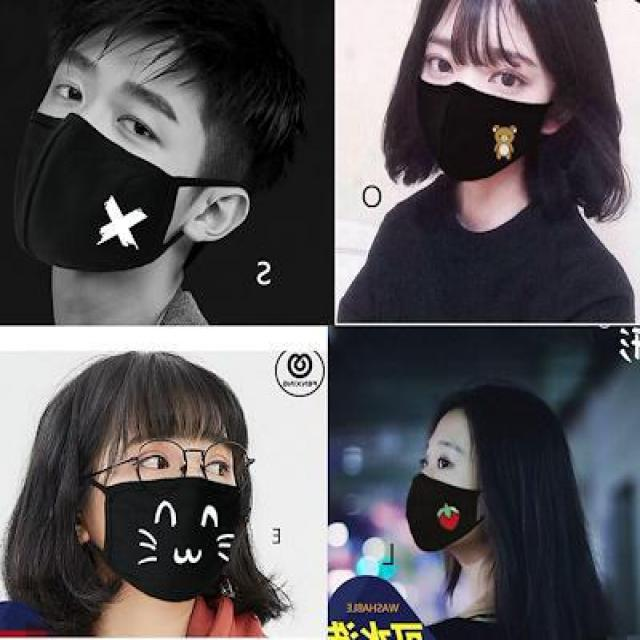face: (9, 5, 300, 282), (49, 349, 260, 604), (405, 3, 590, 194), (402, 378, 568, 560)
